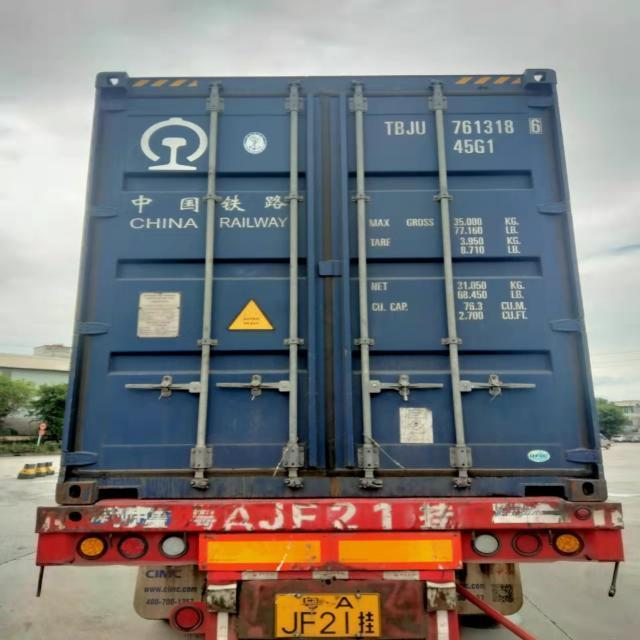ISO: (452, 137, 500, 155)
container_number: (387, 116, 545, 137)
